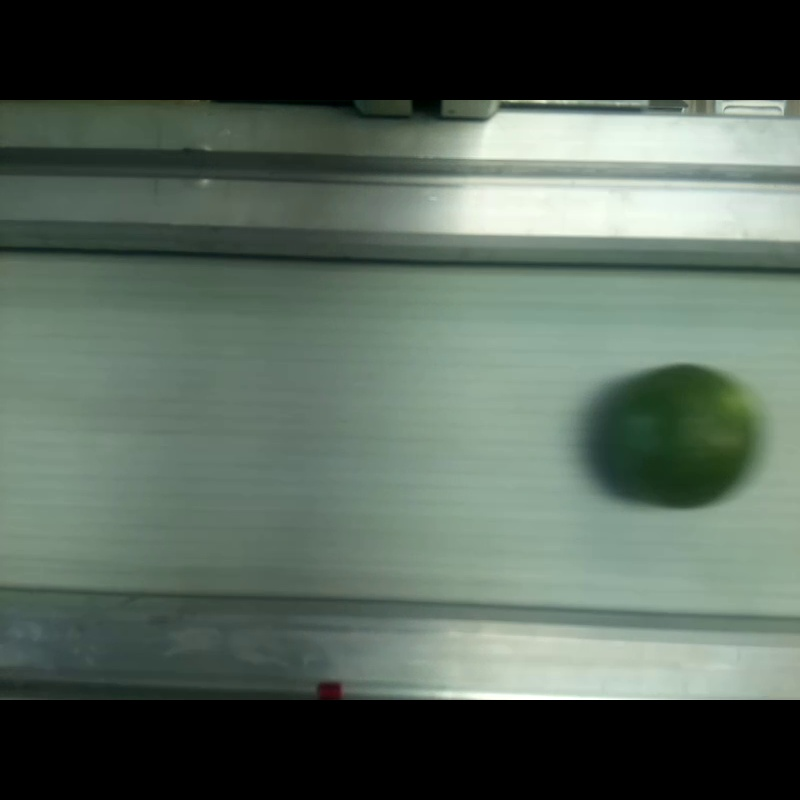lime: (604, 361, 750, 507)
